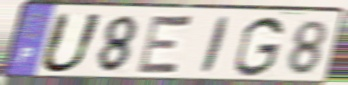8: (93, 14, 141, 76), (286, 19, 330, 77)
E: (133, 12, 196, 79)
G: (232, 15, 286, 79)
I: (197, 15, 233, 77)
U: (36, 11, 107, 76)
